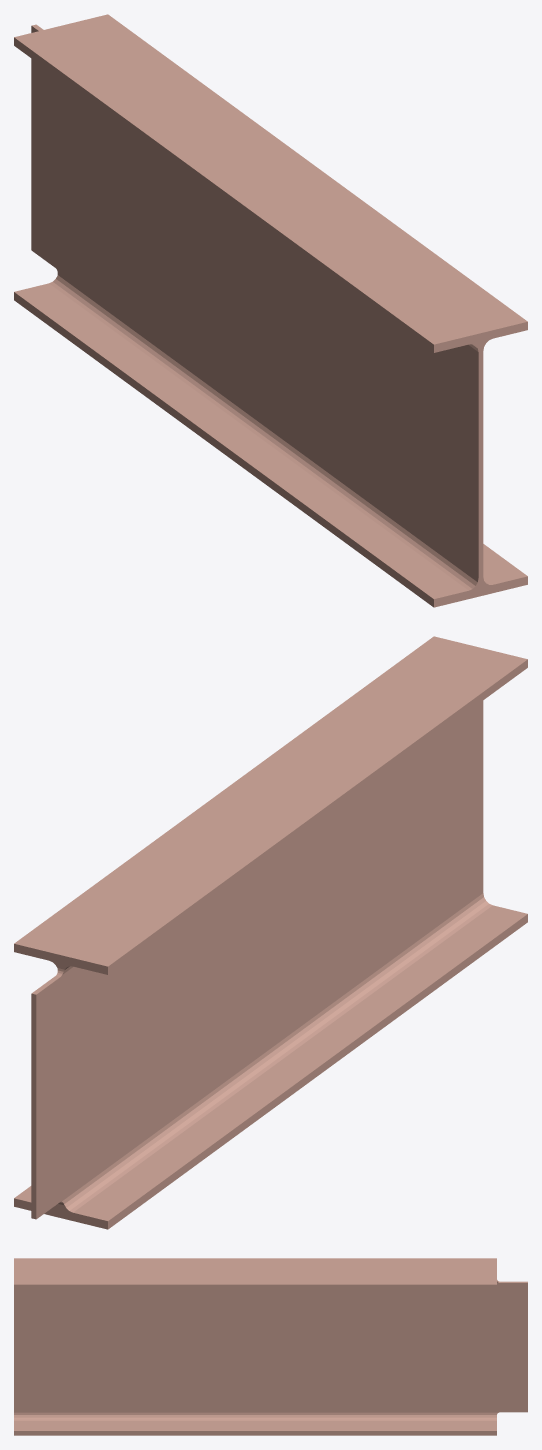
3 views of the same model, one above another, from view 1: azimuth 30°, elevation 25°; view 2: azimuth 150°, elevation 25°; view 3: azimuth 270°, elevation 25° (orthographic). The views are drawn at different scales.
Visible parts, largest first — view 1: product-9202f9f6-0cc5-4548-b94c-ced7c81beeb7-body; view 2: product-9202f9f6-0cc5-4548-b94c-ced7c81beeb7-body; view 3: product-9202f9f6-0cc5-4548-b94c-ced7c81beeb7-body.
Boxes of the visible parts, x1,y1,x2,y2 form: product-9202f9f6-0cc5-4548-b94c-ced7c81beeb7-body: (14, 14, 527, 607); product-9202f9f6-0cc5-4548-b94c-ced7c81beeb7-body: (14, 636, 527, 1229); product-9202f9f6-0cc5-4548-b94c-ced7c81beeb7-body: (14, 1258, 527, 1435).
Size of the model in its own units: 0.2291 by 0.6121 by 1.89.
